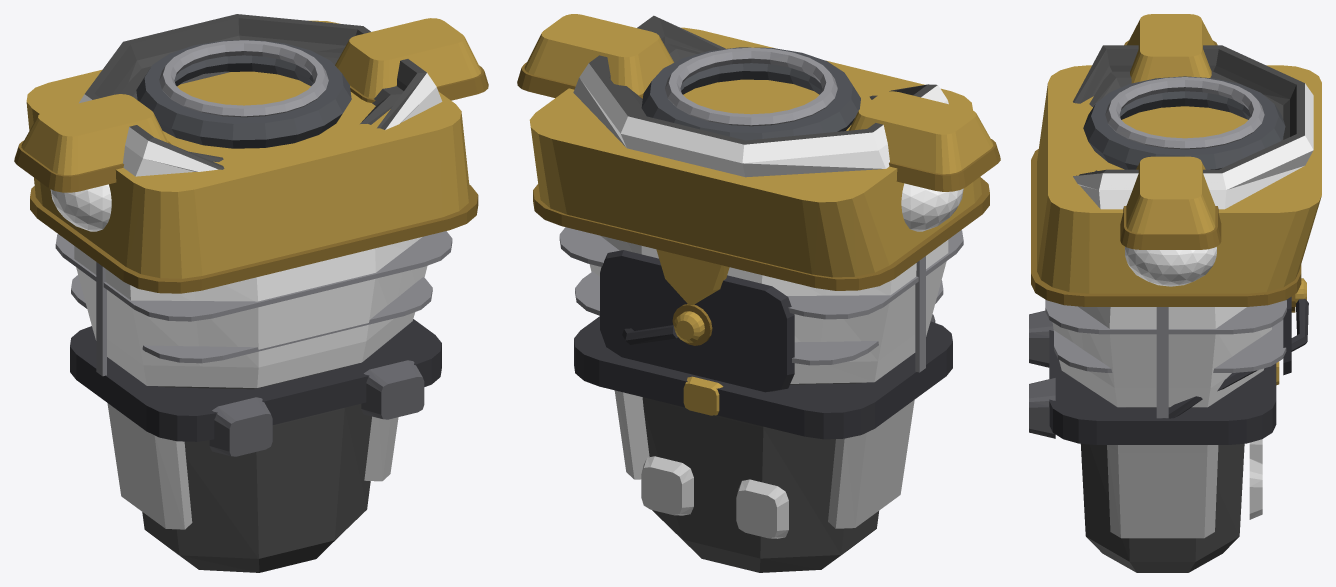
The model's file is person_male_vge_prestige_vacsuit.obj.
3 renders of one model, left to right at view 1: azimuth 30°, elevation 25°; view 2: azimuth 150°, elevation 25°; view 3: azimuth 270°, elevation 25°, orthographic. The views are drawn at different scales.
Visible parts, largest first — view 1: person_male_vge_prestige_vacsuit; view 2: person_male_vge_prestige_vacsuit; view 3: person_male_vge_prestige_vacsuit.
Boxes of the visible parts, x1,y1,x2,y2 form: person_male_vge_prestige_vacsuit: [14, 14, 488, 572]; person_male_vge_prestige_vacsuit: [517, 14, 1000, 572]; person_male_vge_prestige_vacsuit: [1029, 14, 1321, 572].
Bounding box in the file's own units: 0.7974 × 0.805 × 0.4926.
